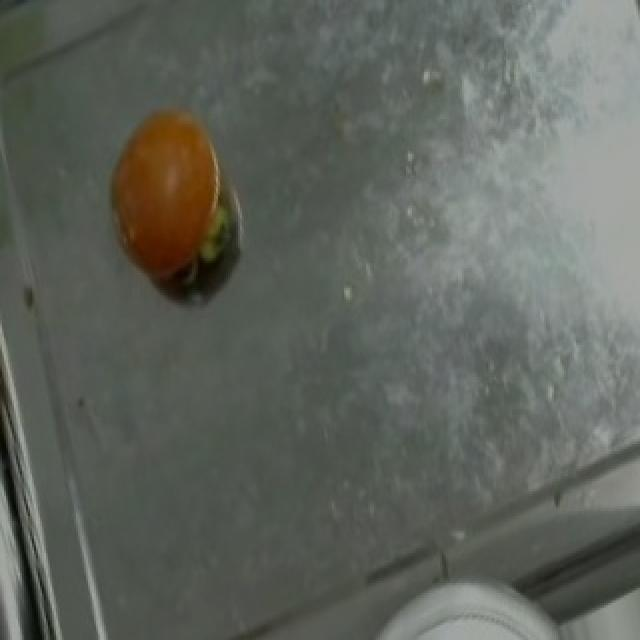Fruit: (88, 87, 248, 300), (366, 598, 584, 640)
